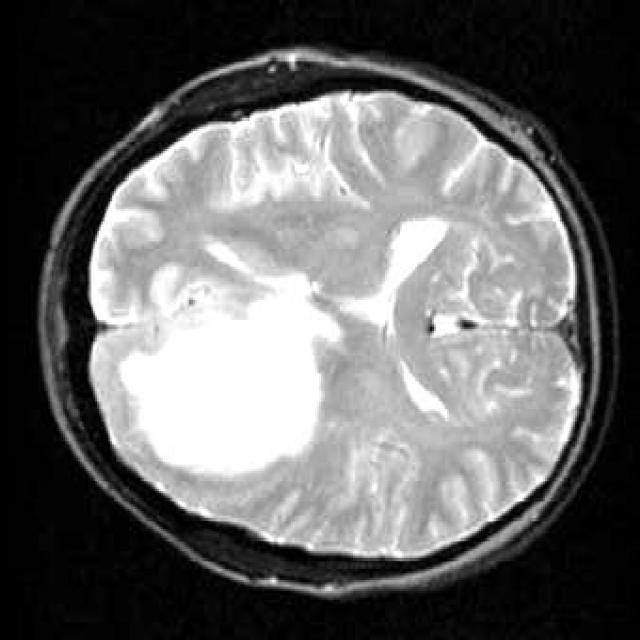tumor: (117, 264, 337, 476)
